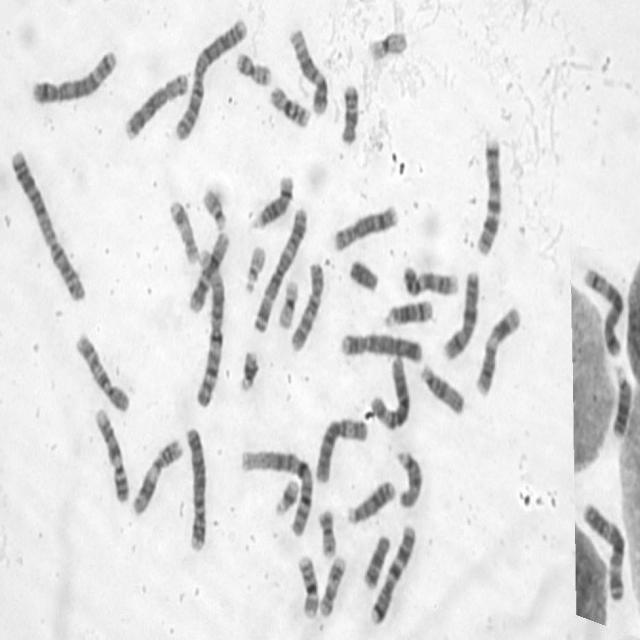A1: (238, 446, 315, 535), (194, 245, 228, 410)
A2: (10, 152, 84, 302), (171, 14, 250, 144)
A3: (252, 205, 310, 334), (582, 498, 630, 605)
B4: (337, 328, 428, 364), (182, 427, 209, 548)
B5: (29, 51, 120, 106), (583, 264, 625, 356)
C10: (73, 328, 131, 416), (290, 258, 326, 356)
C11: (472, 302, 523, 396), (131, 438, 182, 516)
C12: (287, 26, 331, 116), (186, 235, 232, 316)
C6: (312, 416, 369, 488), (368, 352, 410, 428)
C7: (366, 526, 418, 623), (473, 136, 505, 258)
C8: (123, 72, 190, 141), (330, 205, 400, 252)
C9: (91, 406, 131, 504), (397, 262, 459, 300)
D13: (342, 478, 398, 527), (609, 362, 632, 440)
D14: (254, 170, 294, 234), (381, 298, 435, 330)
D15: (418, 363, 467, 418), (394, 448, 425, 508)
E16: (266, 84, 314, 132), (294, 552, 320, 622)
E17: (166, 198, 199, 268), (318, 551, 346, 616)
E18: (362, 530, 392, 590), (337, 83, 361, 149)
F19: (365, 30, 411, 66), (277, 276, 302, 328)
F20: (233, 51, 273, 90), (316, 506, 338, 558)
G21: (270, 477, 300, 515), (236, 348, 260, 393)
G22: (243, 242, 268, 296), (201, 185, 229, 232)
X: (442, 270, 480, 362)
Y: (348, 258, 380, 292)
